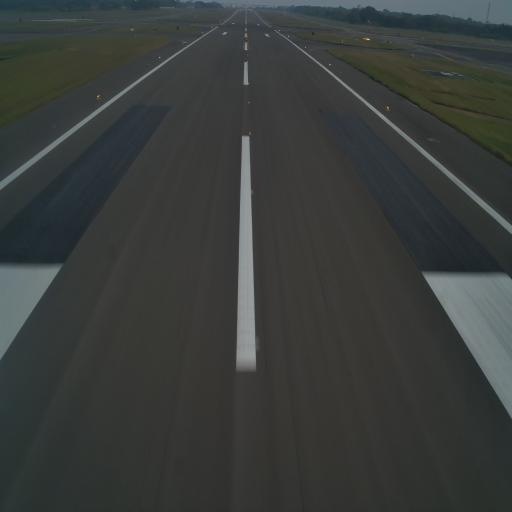on: (252, 330, 262, 358), (249, 187, 255, 200), (385, 102, 391, 112), (96, 91, 102, 101), (247, 98, 252, 106), (248, 130, 252, 138), (246, 81, 251, 86), (246, 59, 250, 65), (158, 54, 161, 60), (328, 62, 332, 66), (304, 46, 307, 50), (184, 40, 186, 45), (246, 53, 248, 57)
